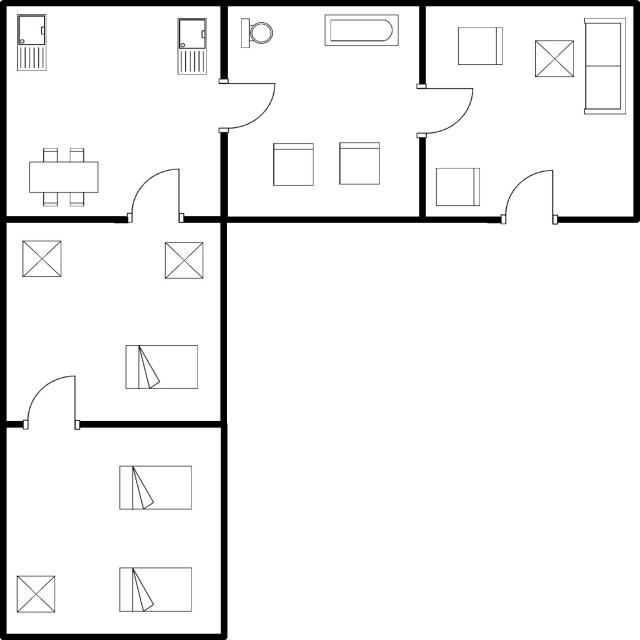bed: (115, 561, 198, 616), (120, 340, 203, 394), (112, 460, 196, 513)
coffee_table: (530, 34, 580, 84), (11, 571, 59, 617), (17, 236, 66, 281), (158, 238, 208, 282)
dining_table: (24, 143, 102, 210)
large_sink: (238, 13, 276, 54)
large_sofa: (579, 12, 634, 119)
sink: (11, 11, 52, 79), (172, 15, 212, 80)
small_sofa: (266, 139, 321, 189), (452, 22, 508, 71), (430, 160, 484, 210), (334, 138, 383, 190)
tub: (318, 10, 402, 52)
